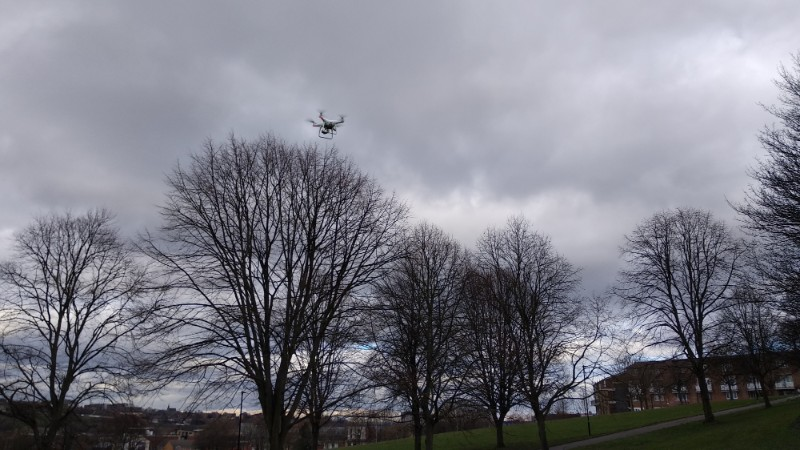drone: (308, 111, 349, 140)
